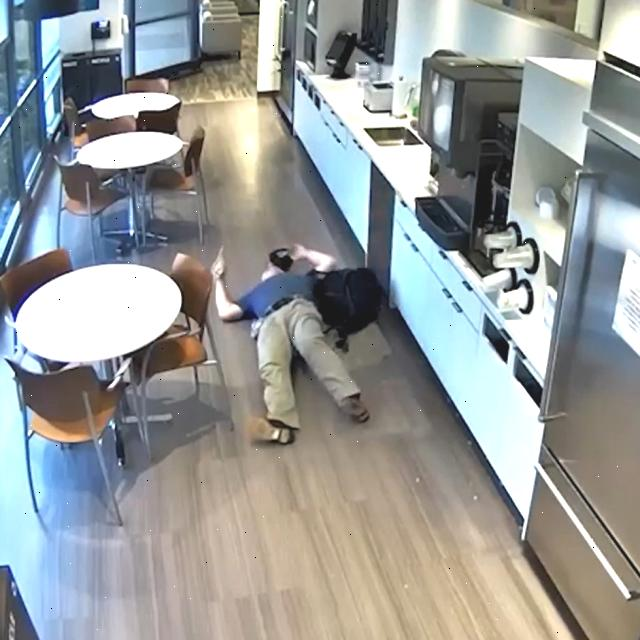fallen: (213, 245, 368, 445)
